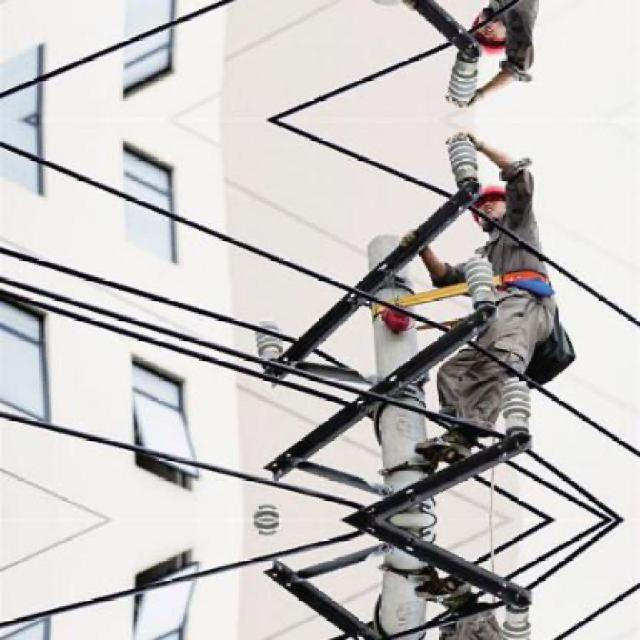con casco: (428, 170, 547, 242)
